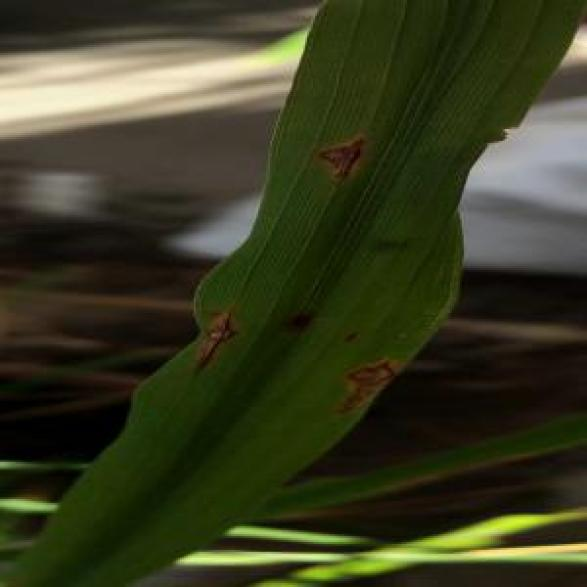Leaf_smut: (274, 78, 405, 202), (327, 317, 436, 421), (176, 266, 266, 386)
